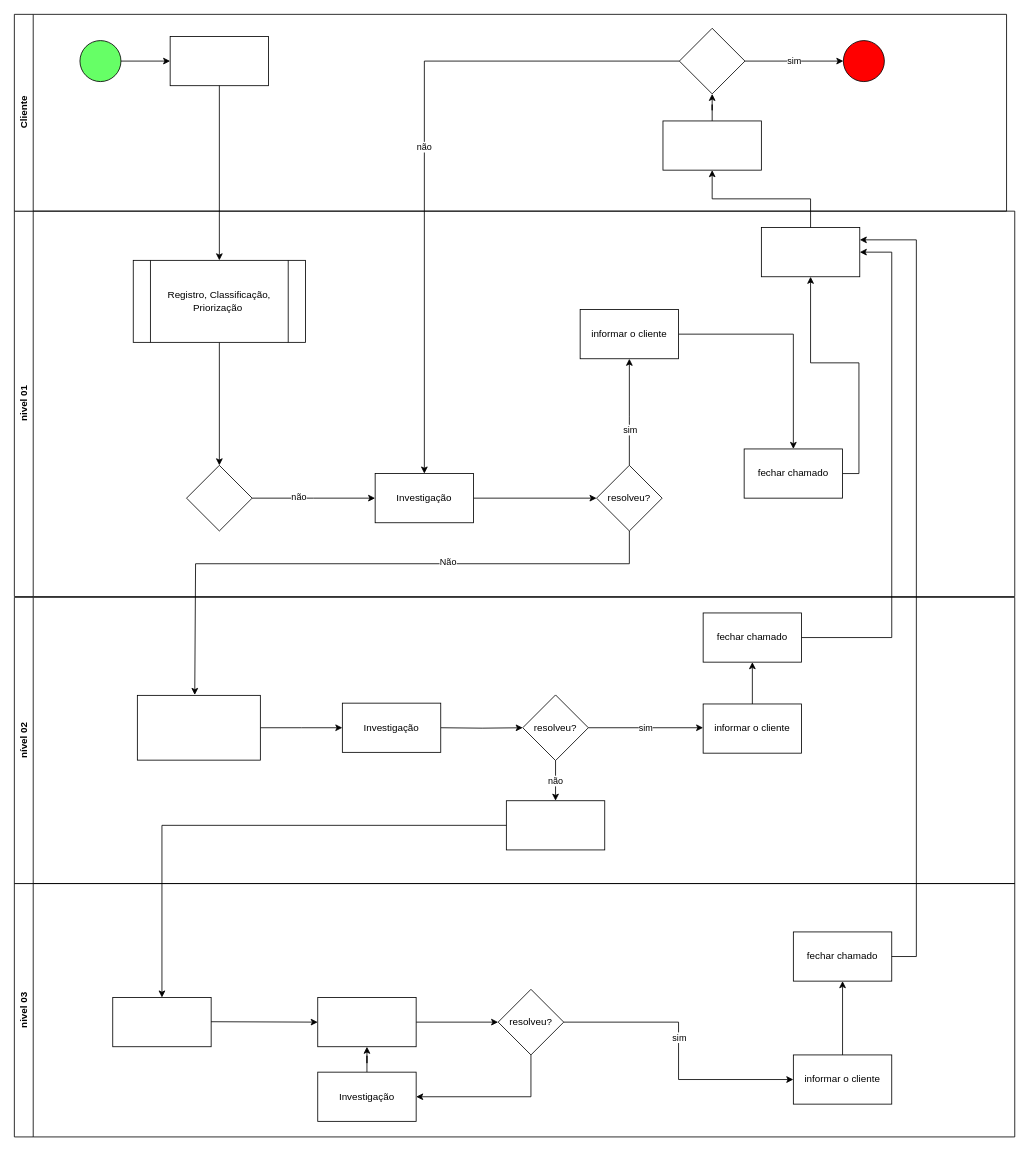
The diagram is 1029 pixels wide and 1151 high, and some of its shapes have lost their labels. The shapes that lost their labels are listed below. From the top down, each one's centre as x and y in pixels, then its label:
pixel 219 61: Abrir o chamado
pixel 712 60: validado?
pixel 711 145: validação do cliente
pixel 810 252: Atualizar Base de conhecimento
pixel 219 498: É um problema?
pixel 198 727: Níveis Pleno de suporte
pixel 555 825: escalonar para o próximo nível
pixel 161 1022: Nível Avançado de suporte
pixel 366 1022: Aplicação de uma solução de contorno
